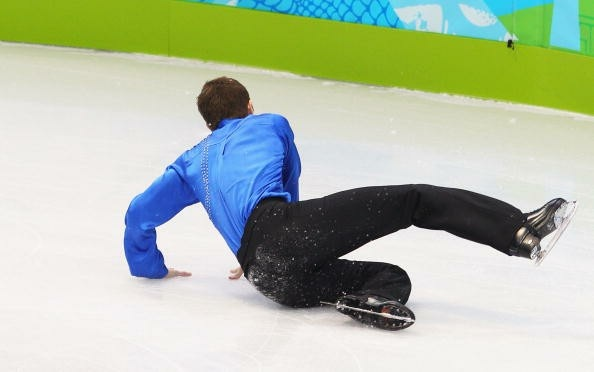falling: (114, 76, 583, 334)
